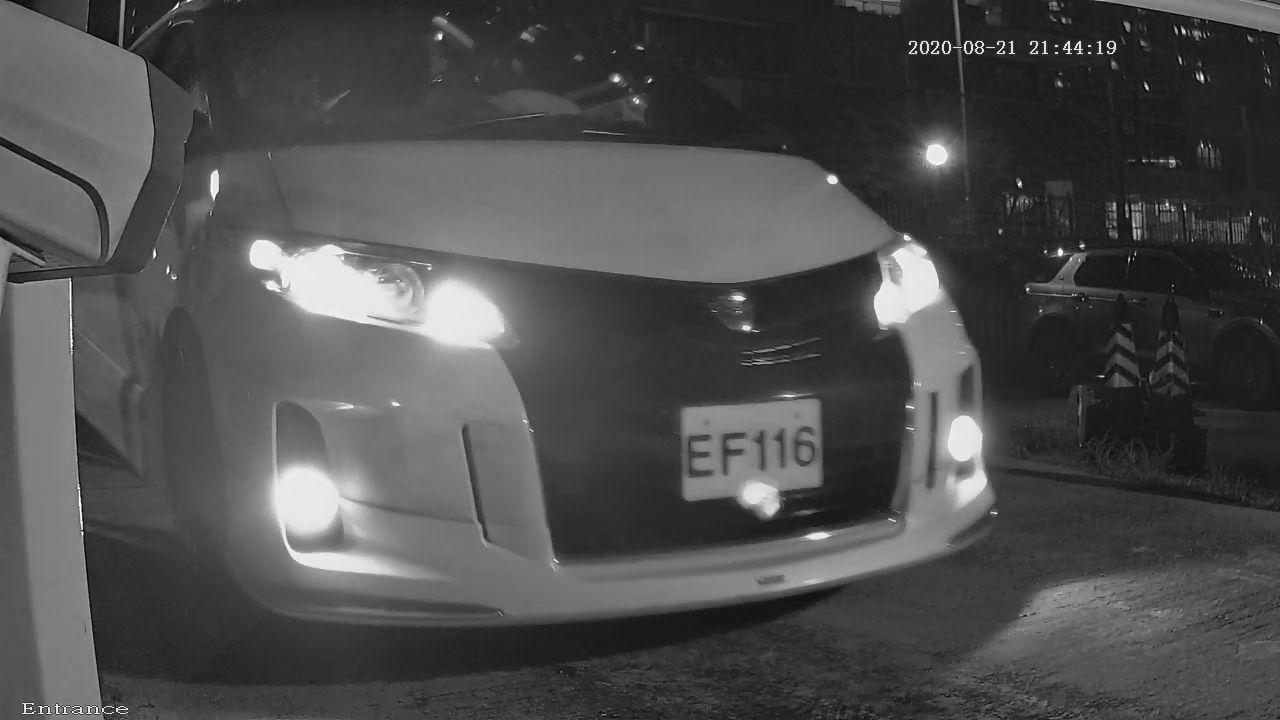Car: (86, 13, 1046, 692)
License Plate: (641, 360, 870, 532)
